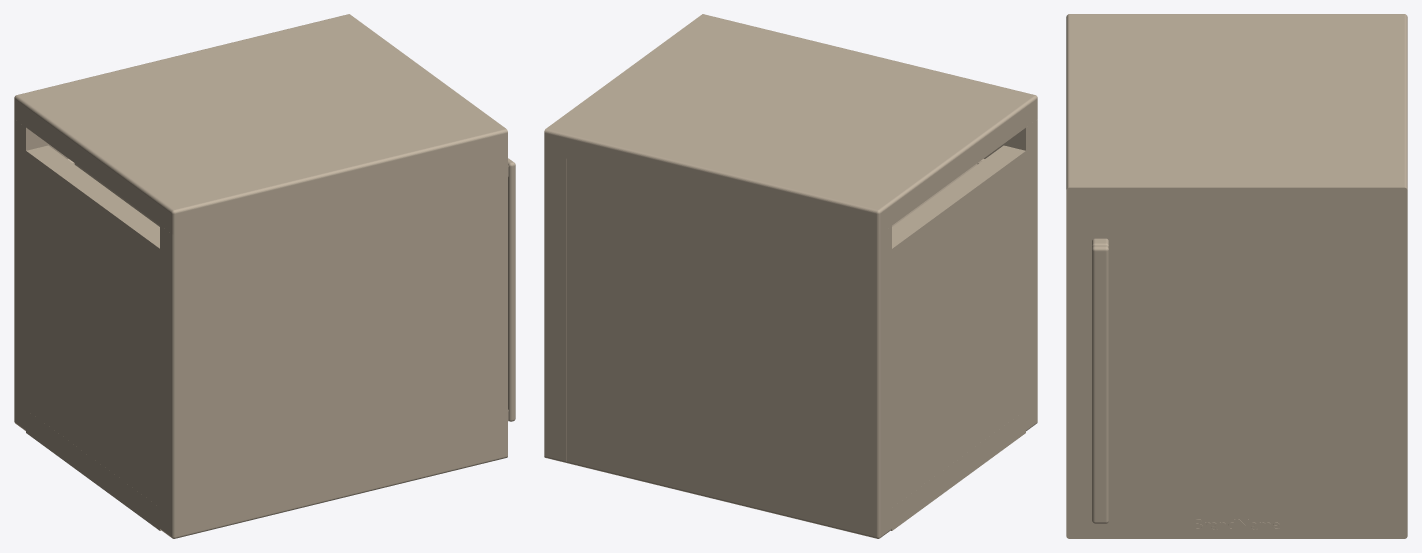
File: 3dcodebench_BeverageFridge_seed0.glb
The picture shows the model from 3 angles, left to right: view 1: azimuth 30°, elevation 25°; view 2: azimuth 150°, elevation 25°; view 3: azimuth 270°, elevation 25°; orthographic projection. The views are drawn at different scales.
Visible parts, largest first — view 1: object; view 2: object; view 3: object.
Boxes of the visible parts, left/top/right/bottom form: object: left=14, top=14, right=515, bottom=538; object: left=544, top=14, right=1037, bottom=538; object: left=1066, top=14, right=1407, bottom=538.
Size of the model in its own units: 1.34 by 1.18 by 1.04.
